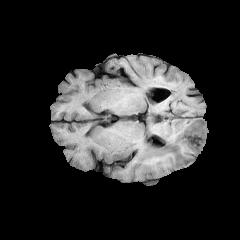glioma: (144, 118, 206, 166)
